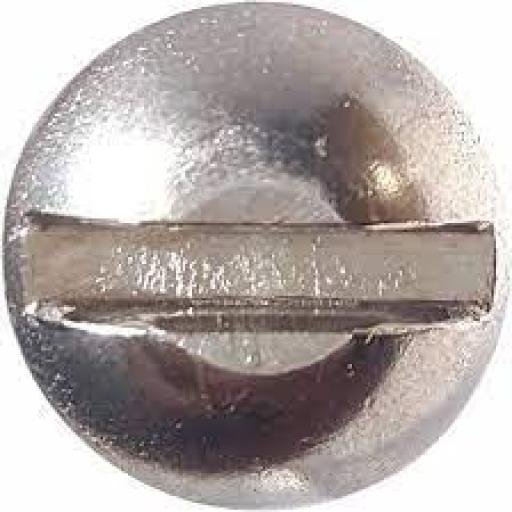Slotted: (3, 2, 507, 504)
